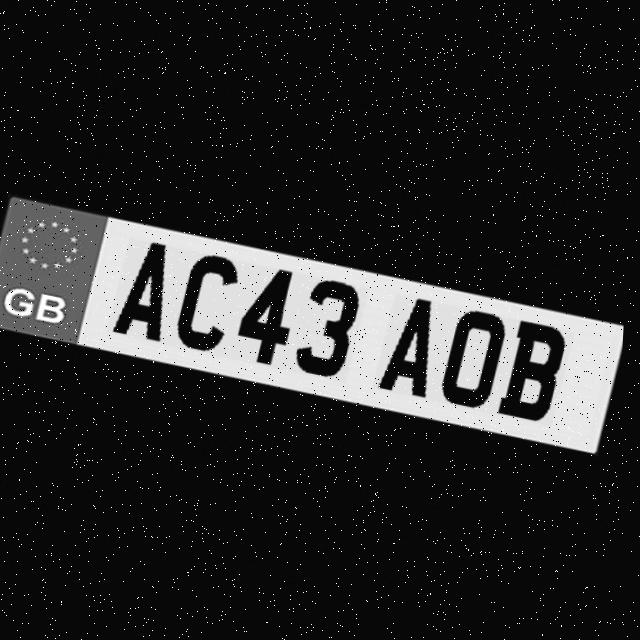license-plates: (0, 199, 624, 452)
